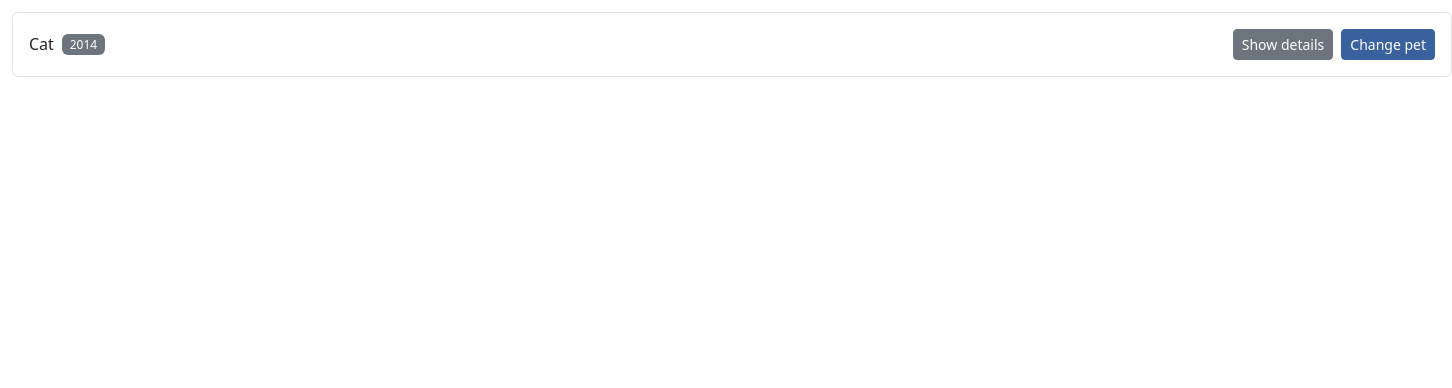
Test: PickOne › offers to remove the current choice, and to choose any other
What coordinates should you click on to do the following:
click the button "Change pet"
I would click on:
 (1388, 44)
Its box is [1341, 29, 1435, 60].
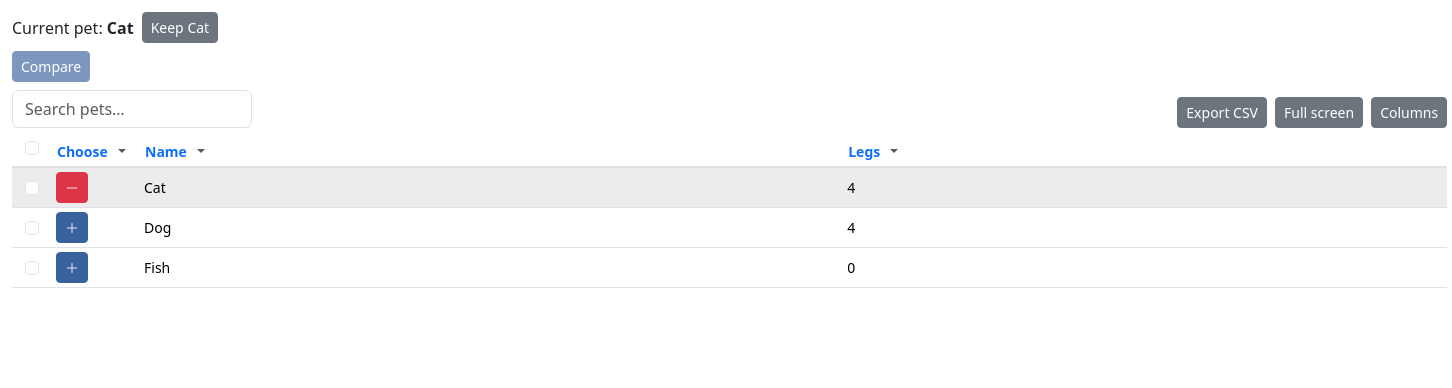
Expected: the button named "Choose" next to "Dog" is shown, [56, 212, 88, 243]
What coordinates should you click on to do the following:
click the text "Cat"
I would click on:
 (492, 188)
Its box is [140, 168, 843, 208].
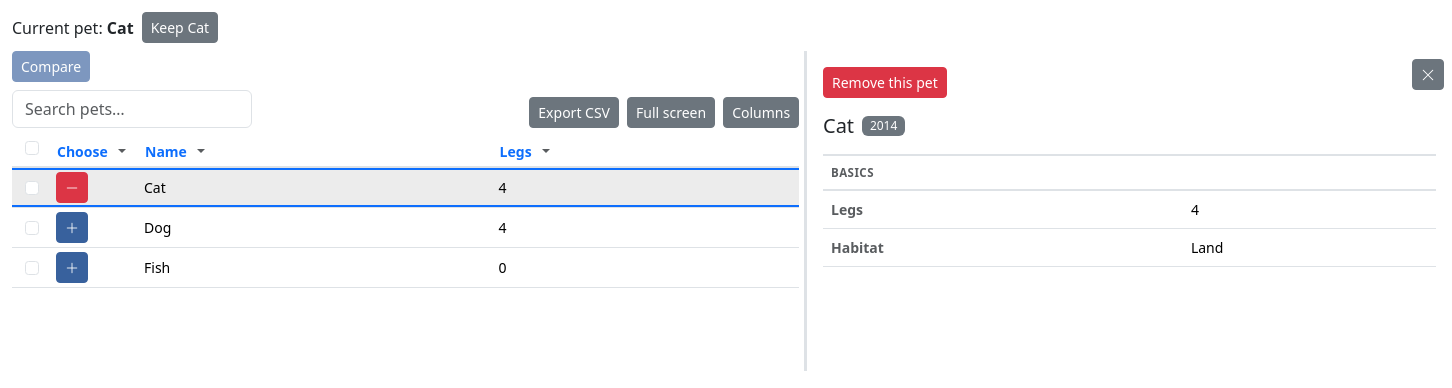
Expected: the button "Remove this pet" is shown, [823, 67, 947, 98]
What coordinates should you click on to do the following:
click the button named "Remove"
I would click on:
 (72, 188)
Its box is [56, 172, 88, 203].
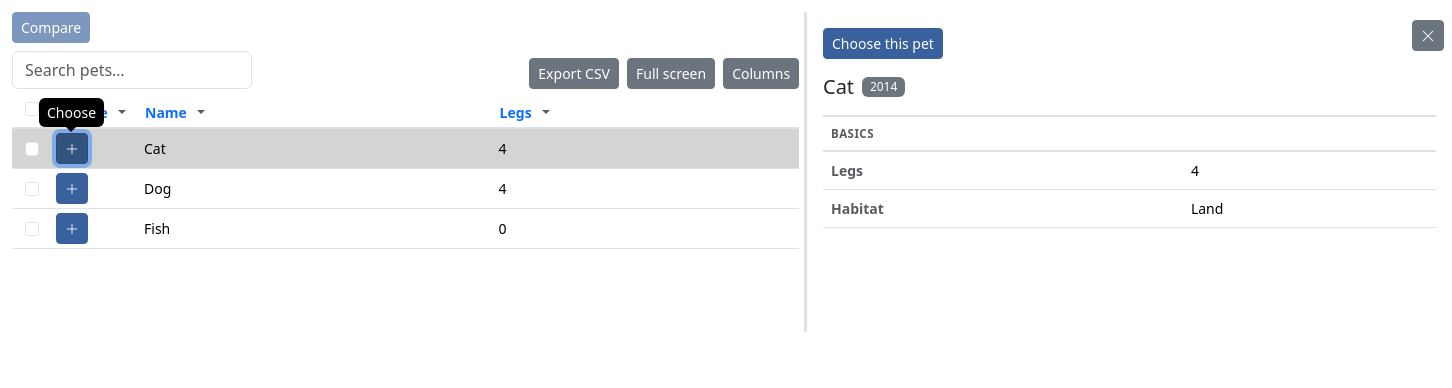
Expected: the table named "Pets" is shown, [12, 97, 799, 249]
Expected: the text "Current pet" is gone
Expected: the 1st button named "Choose" is shown, [56, 133, 88, 164]
